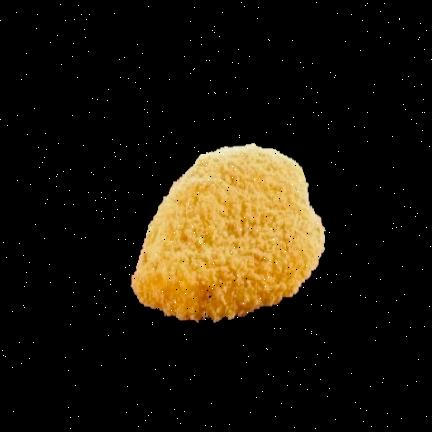chicken: (133, 144, 324, 321)
